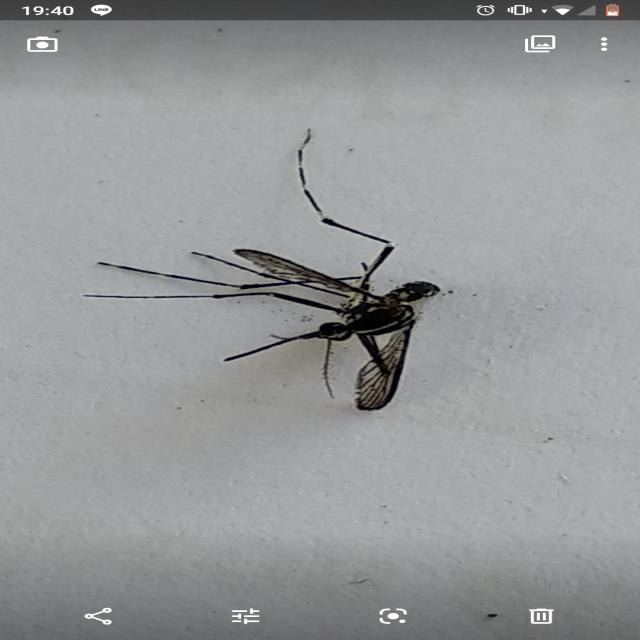albopictus: (99, 123, 478, 412)
